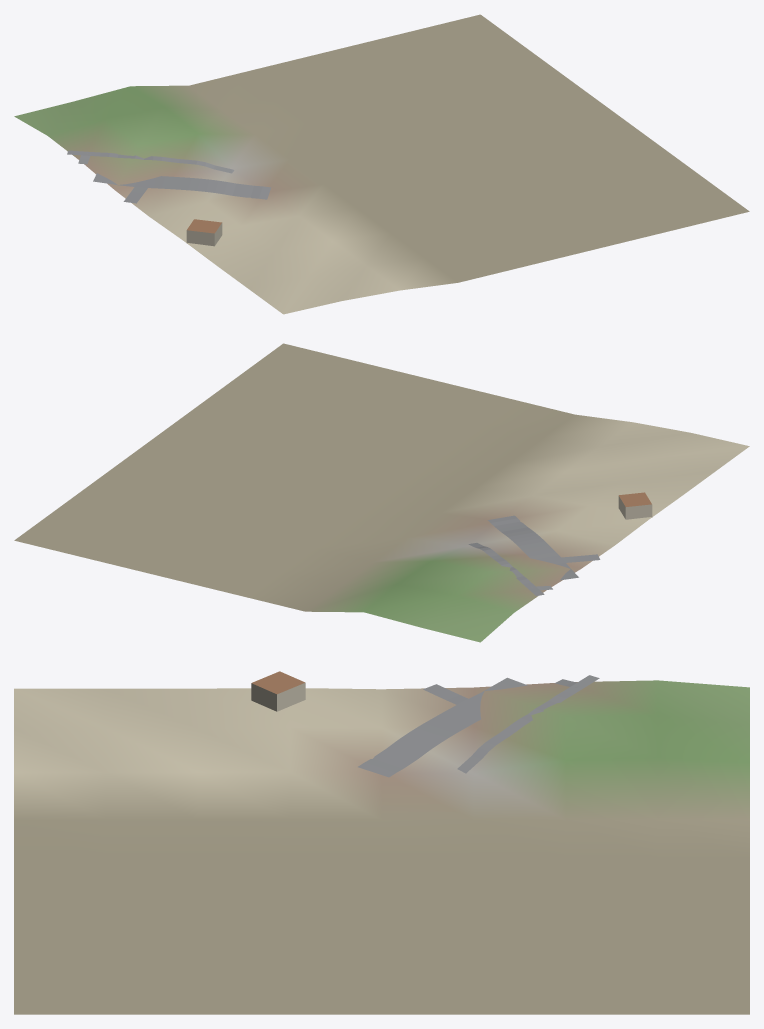
3 renders of one model, top to bottom at view 1: azimuth 30°, elevation 25°; view 2: azimuth 150°, elevation 25°; view 3: azimuth 270°, elevation 25°, orthographic. The views are drawn at different scales.
Visible parts, largest first — view 1: Lo; view 2: Lo; view 3: Lo.
Boxes of the visible parts, x1,y1,x2,y2 form: Lo: (14,14,749,314); Lo: (14,343,749,642); Lo: (14,671,749,1014).
Size of the model in its own units: 261 by 12.56 by 256.
